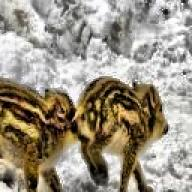boar: (70, 75, 168, 192), (0, 73, 78, 192)
